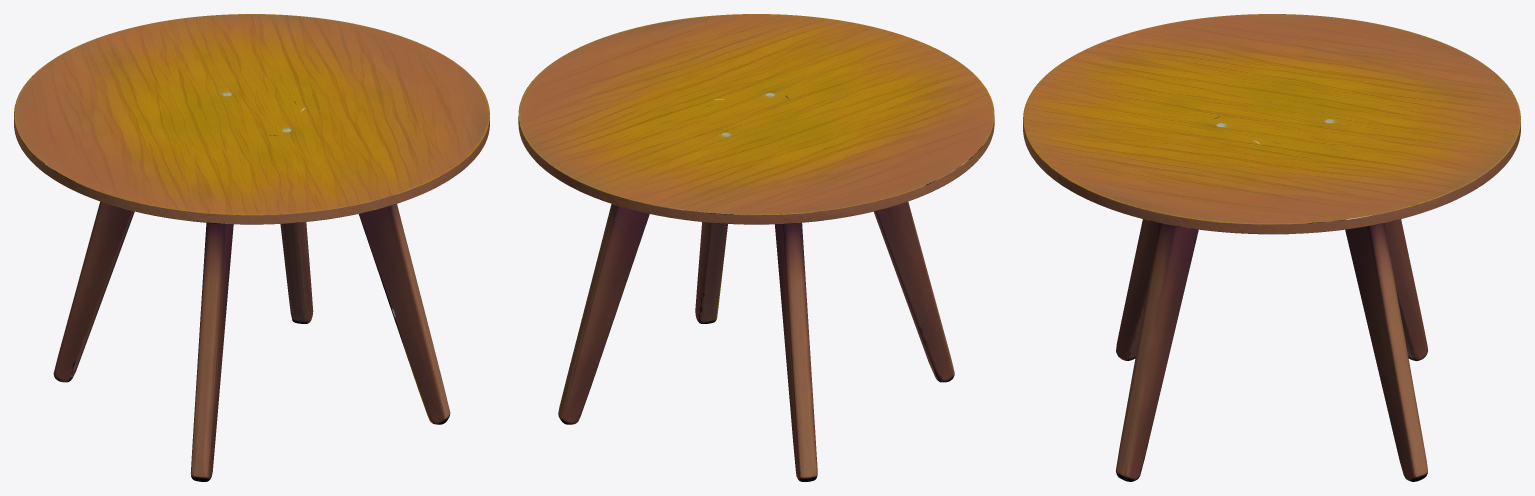
Rendered from edited_mesh.glb.
3 views of the same model, side by side, from view 1: azimuth 30°, elevation 25°; view 2: azimuth 150°, elevation 25°; view 3: azimuth 270°, elevation 25° (orthographic). The views are drawn at different scales.
Parts seen in each view (by area): view 1: solid_001_wire; view 2: solid_001_wire; view 3: solid_001_wire.
Part boxes in pixels (box(x1,y1,x2,y2)): solid_001_wire: box(14, 14, 489, 481); solid_001_wire: box(518, 14, 994, 481); solid_001_wire: box(1023, 14, 1520, 481).
Bounding box in the file's own units: 1.72 × 1.14 × 1.72.
Materials: 1 (1 with a texture image).
